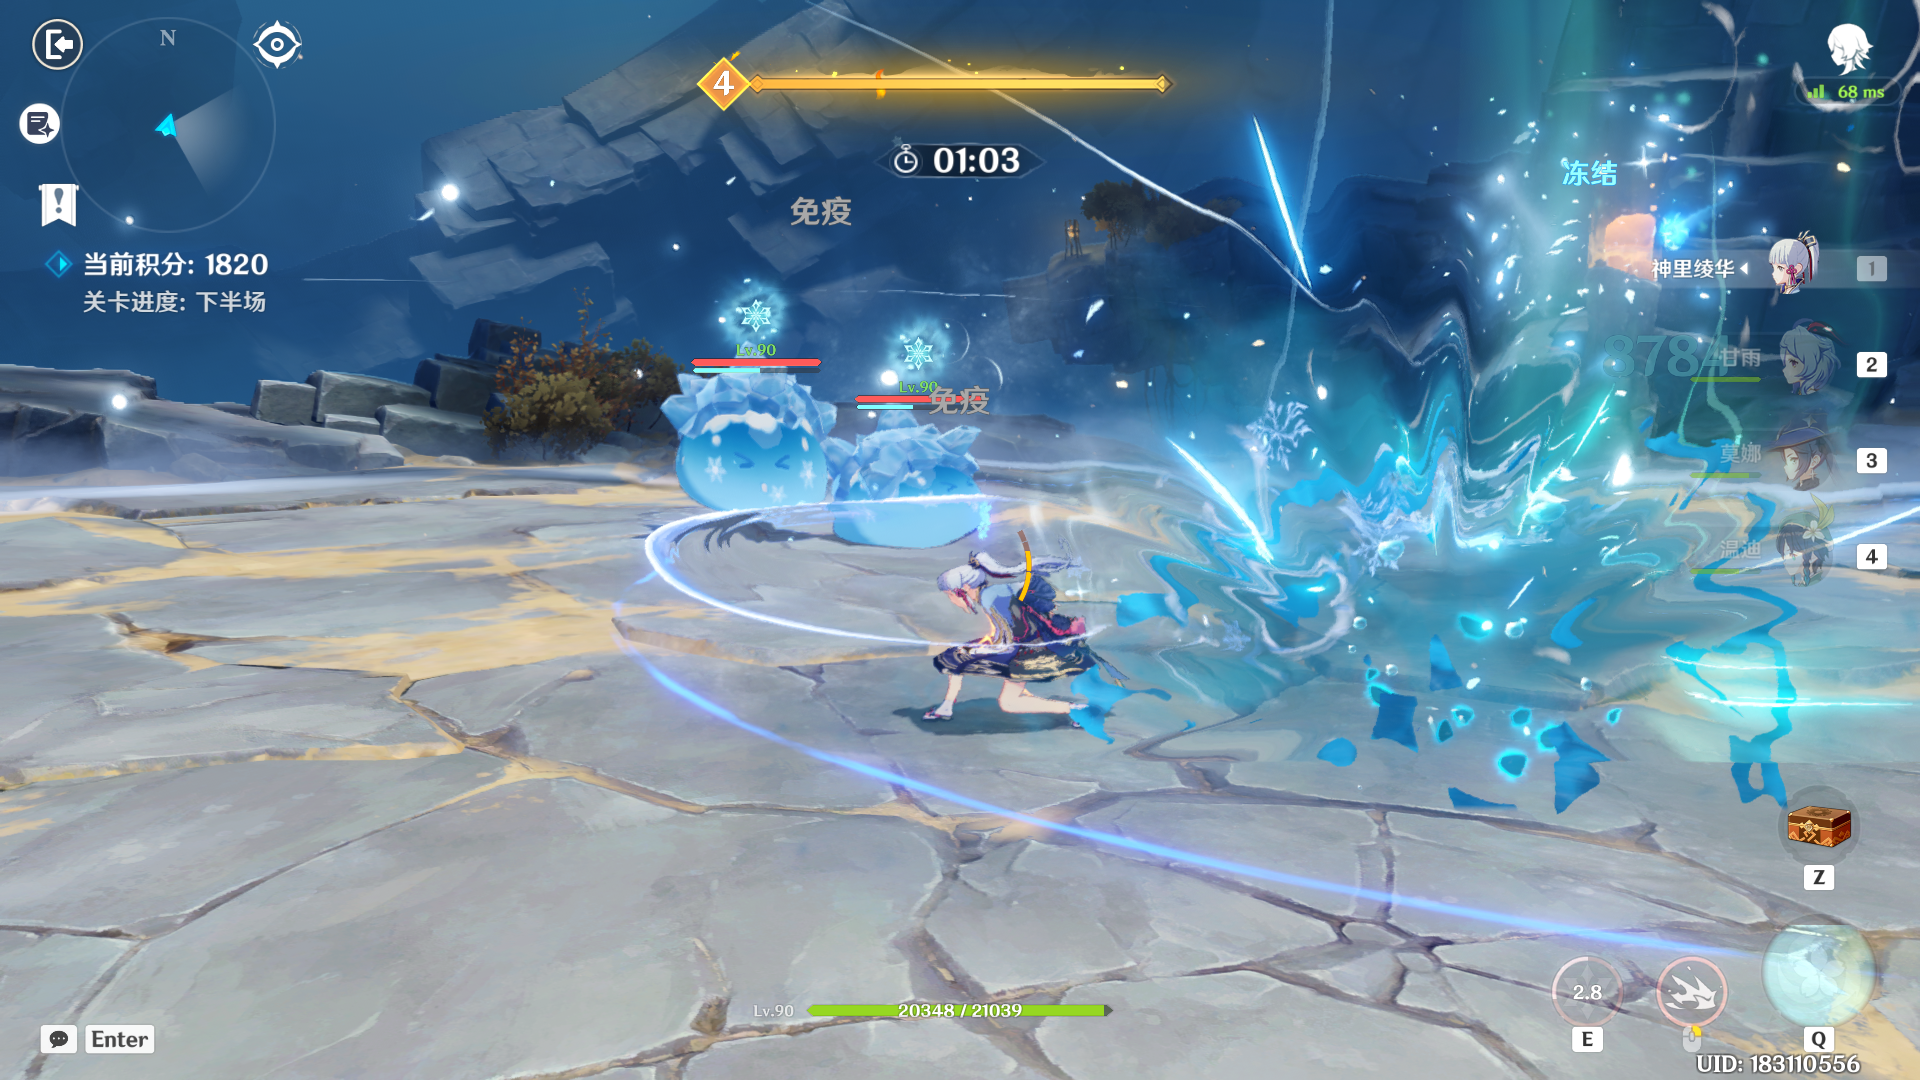character: (884, 509, 1116, 756)
slime: (651, 345, 837, 556), (829, 411, 998, 553)
